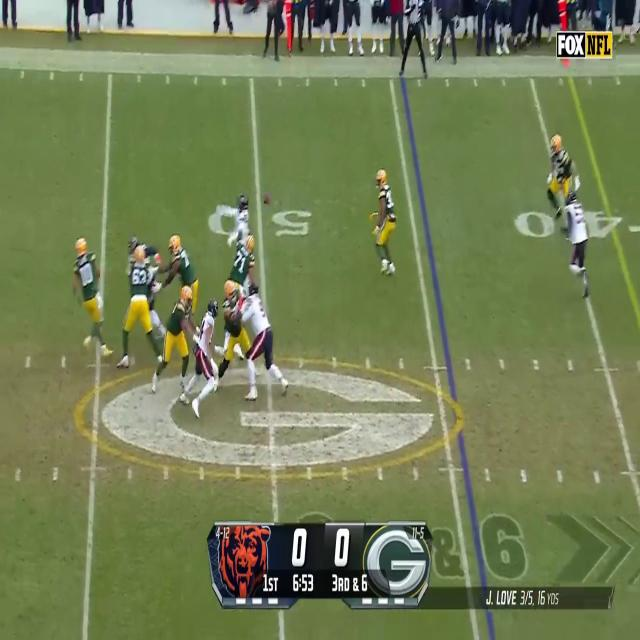Player: (239, 278, 274, 404), (124, 245, 158, 367), (563, 188, 592, 302), (192, 296, 219, 416), (75, 236, 102, 355), (165, 284, 192, 398), (372, 164, 396, 278), (221, 280, 246, 379), (547, 131, 571, 224), (166, 235, 197, 287), (231, 237, 259, 284)
